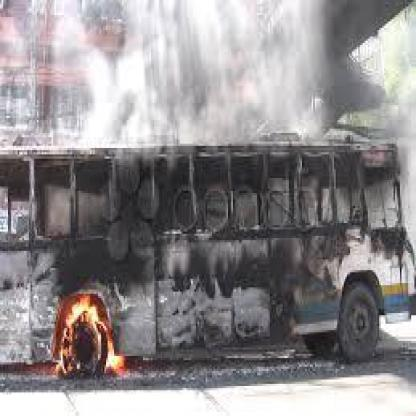fire: (36, 284, 141, 384)
other: (62, 19, 151, 150)
